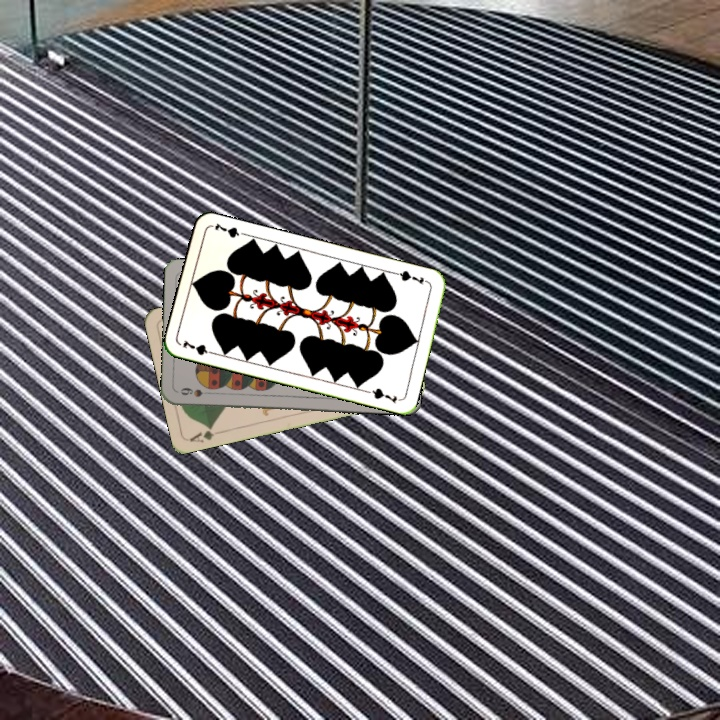G7: (179, 336, 218, 358), (391, 266, 431, 287)
GA: (186, 422, 226, 445)
S9: (176, 384, 216, 399)
